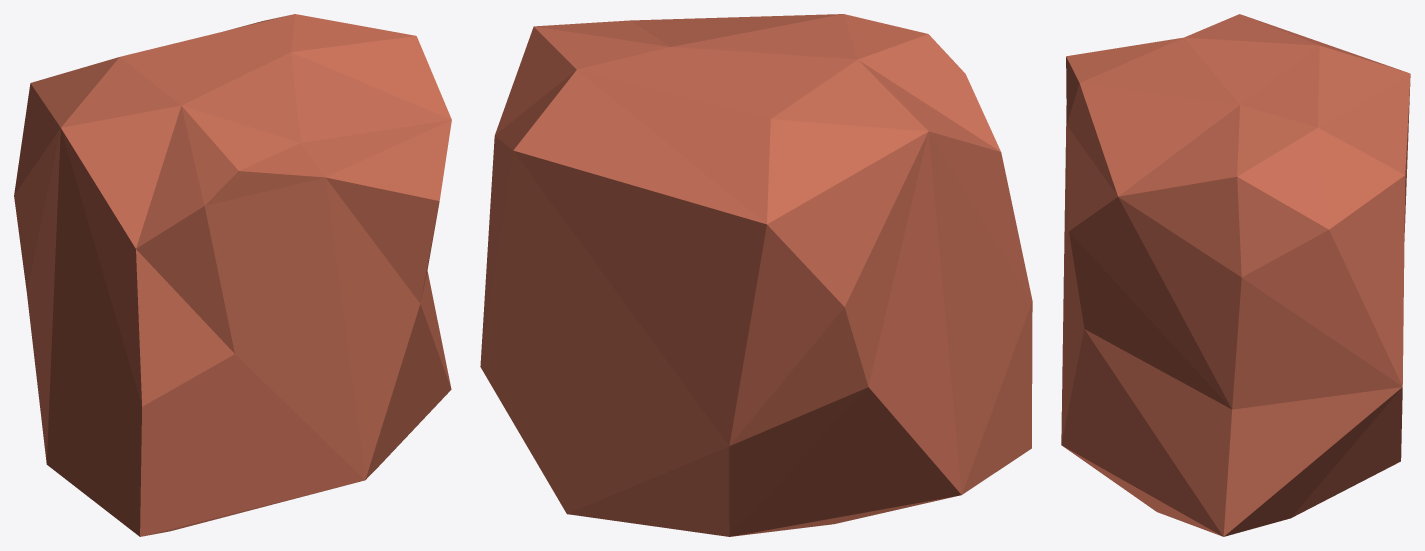
Rendered from boulder_002.fbx.
3 renders of one model, left to right at view 1: azimuth 30°, elevation 25°; view 2: azimuth 150°, elevation 25°; view 3: azimuth 270°, elevation 25°, orthographic. The views are drawn at different scales.
Visible parts, largest first — view 1: boulder_002; view 2: boulder_002; view 3: boulder_002.
Part boxes in pixels (x1,y1,x2,y2): boulder_002: [14, 14, 451, 536]; boulder_002: [480, 14, 1032, 536]; boulder_002: [1061, 14, 1410, 536].
Bounding box in the file's own units: 1015 × 778 × 954.
